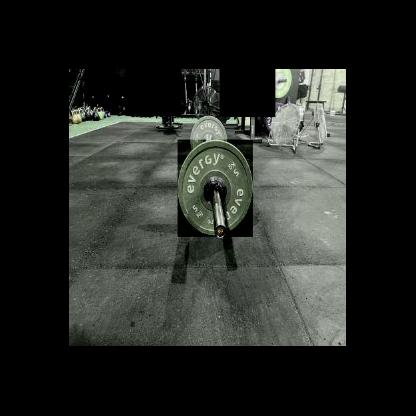barbell: (178, 139, 252, 236)
